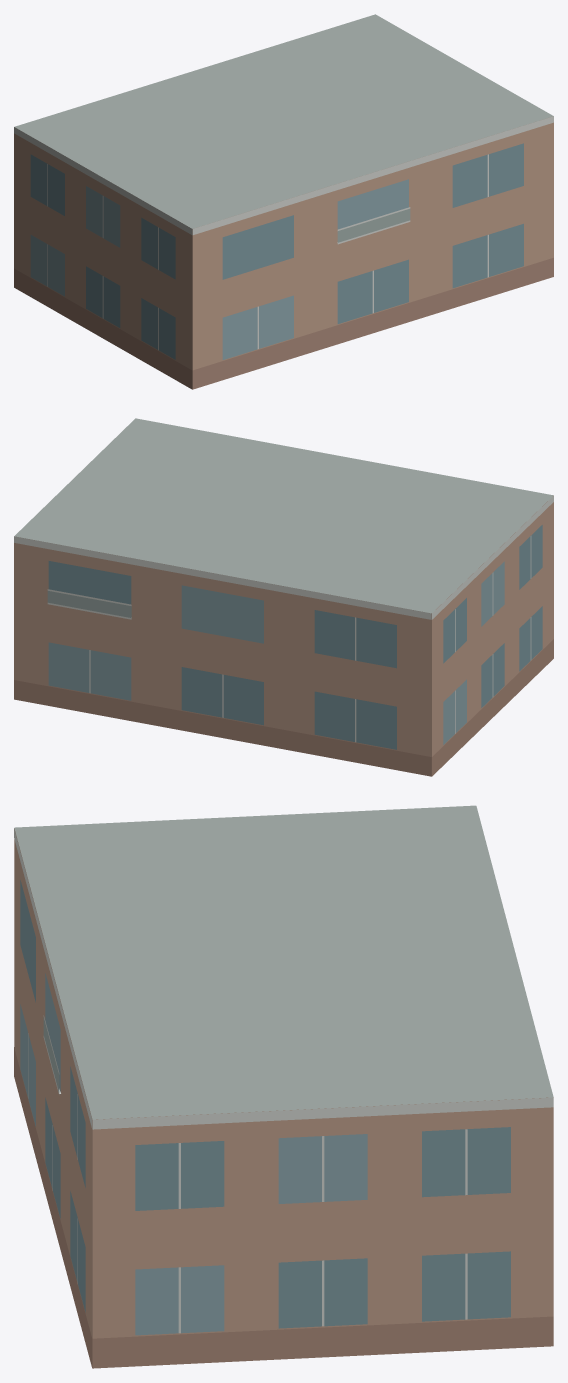
The model's file is survey-upis-32664393.glb.
3 renders of one model, top to bottom at view 1: azimuth 30°, elevation 25°; view 2: azimuth 150°, elevation 25°; view 3: azimuth 270°, elevation 25°, orthographic. The views are drawn at different scales.
Visible parts, largest first — view 1: survey-upis-32664393.tmp; view 2: survey-upis-32664393.tmp; view 3: survey-upis-32664393.tmp.
Boxes of the visible parts, left/top/right/bottom form: survey-upis-32664393.tmp: left=14, top=14, right=553, bottom=389; survey-upis-32664393.tmp: left=14, top=418, right=553, bottom=776; survey-upis-32664393.tmp: left=14, top=805, right=553, bottom=1368.
Bounding box in the file's own units: 16.53 × 6.1 × 12.
